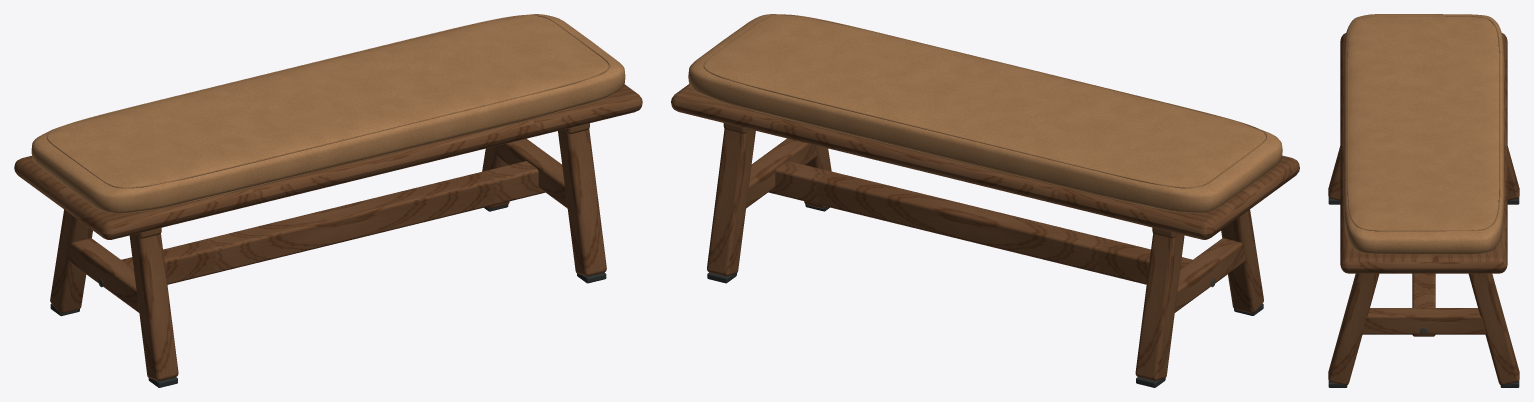
3 views of the same model, side by side, from view 1: azimuth 30°, elevation 25°; view 2: azimuth 150°, elevation 25°; view 3: azimuth 270°, elevation 25° (orthographic). The views are drawn at different scales.
Parts seen in each view (by area): view 1: Camel | continuous bench cushion, Walnut | lower longitudinal stretcher, Walnut | solid seat slab, Walnut | splayed trestle leg, Walnut | splayed trestle leg.002, Walnut | low trestle cross tie, Walnut | splayed trestle leg.001, Walnut | low trestle cross tie.001, Camel | continuous bench cushion | upper tailored welt, Camel | continuous bench cushion | lower tailored welt; view 2: Camel | continuous bench cushion, Walnut | lower longitudinal stretcher, Walnut | solid seat slab, Walnut | splayed trestle leg.003, Walnut | splayed trestle leg.001, Walnut | low trestle cross tie, Walnut | splayed trestle leg, Walnut | low trestle cross tie.001, Camel | continuous bench cushion | upper tailored welt, Camel | continuous bench cushion | lower tailored welt; view 3: Camel | continuous bench cushion, Walnut | solid seat slab, Walnut | low trestle cross tie.001, Walnut | splayed trestle leg.002, Walnut | splayed trestle leg.003, Camel | continuous bench cushion | upper tailored welt, Walnut | lower longitudinal stretcher, Walnut | splayed trestle leg, Walnut | splayed trestle leg.001.
Boxes of the visible parts, x1,y1,x2,y2 form: Camel | continuous bench cushion: [31, 14, 625, 213]; Walnut | lower longitudinal stretcher: [121, 161, 545, 284]; Walnut | solid seat slab: [14, 84, 642, 239]; Walnut | splayed trestle leg: [129, 234, 178, 380]; Walnut | splayed trestle leg.002: [558, 129, 606, 276]; Walnut | low trestle cross tie: [68, 238, 139, 312]; Walnut | splayed trestle leg.001: [50, 209, 92, 313]; Walnut | low trestle cross tie.001: [496, 138, 567, 208]; Camel | continuous bench cushion | upper tailored welt: [46, 14, 610, 188]; Camel | continuous bench cushion | lower tailored welt: [132, 104, 586, 212]; Camel | continuous bench cushion: [688, 14, 1282, 213]; Walnut | lower longitudinal stretcher: [768, 161, 1192, 284]; Walnut | solid seat slab: [671, 84, 1299, 239]; Walnut | splayed trestle leg.003: [707, 129, 755, 276]; Walnut | splayed trestle leg.001: [1135, 233, 1184, 380]; Walnut | low trestle cross tie: [1175, 238, 1246, 312]; Walnut | splayed trestle leg: [1221, 209, 1263, 313]; Walnut | low trestle cross tie.001: [746, 138, 817, 208]; Camel | continuous bench cushion | upper tailored welt: [703, 14, 1267, 188]; Camel | continuous bench cushion | lower tailored welt: [740, 107, 1160, 209]; Camel | continuous bench cushion: [1343, 14, 1504, 254]; Walnut | solid seat slab: [1340, 33, 1507, 273]; Walnut | low trestle cross tie.001: [1361, 308, 1486, 334]; Walnut | splayed trestle leg.002: [1328, 273, 1379, 385]; Walnut | splayed trestle leg.003: [1468, 273, 1519, 385]; Camel | continuous bench cushion | upper tailored welt: [1347, 15, 1500, 231]; Walnut | lower longitudinal stretcher: [1412, 273, 1435, 336]; Walnut | splayed trestle leg: [1328, 146, 1340, 200]; Walnut | splayed trestle leg.001: [1507, 146, 1519, 200].
Size of the model in its own units: 1.54 by 0.5345 by 0.5377.
5 materials, 2 textured.
